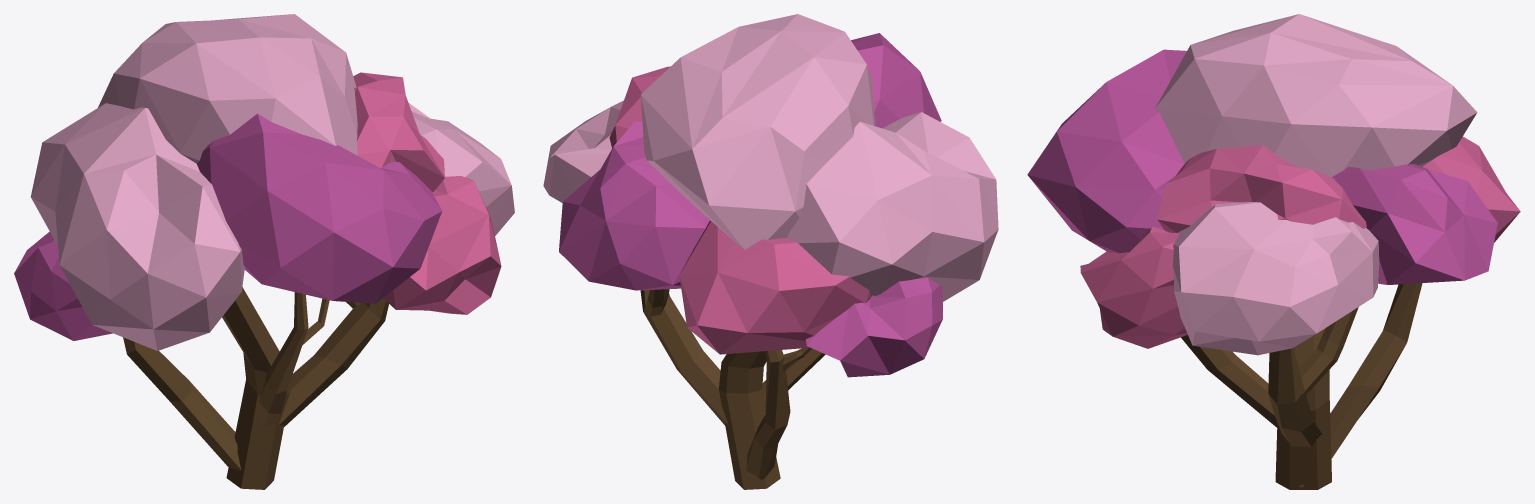
File: Magnolia.fbx
The picture shows the model from 3 angles, left to right: view 1: azimuth 30°, elevation 25°; view 2: azimuth 150°, elevation 25°; view 3: azimuth 270°, elevation 25°; orthographic projection. The views are drawn at different scales.
Parts seen in each view (by area): view 1: Magnolia; view 2: Magnolia; view 3: Magnolia.
Part boxes in pixels (x1,y1,x2,y2): Magnolia: (14,14,514,489); Magnolia: (543,14,998,489); Magnolia: (1027,14,1520,489).
Size of the model in its own units: 2 by 2 by 2.
